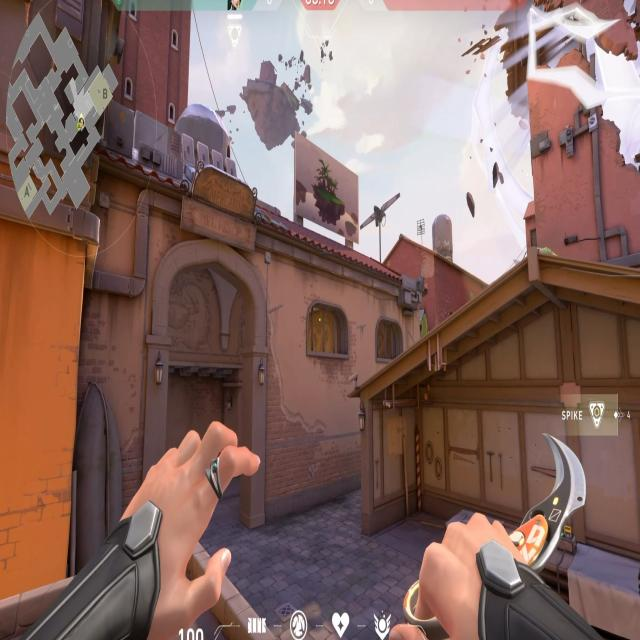B_Garage_Left: (348, 391, 469, 524)
Throwables: (303, 298, 354, 368), (373, 314, 405, 366)
